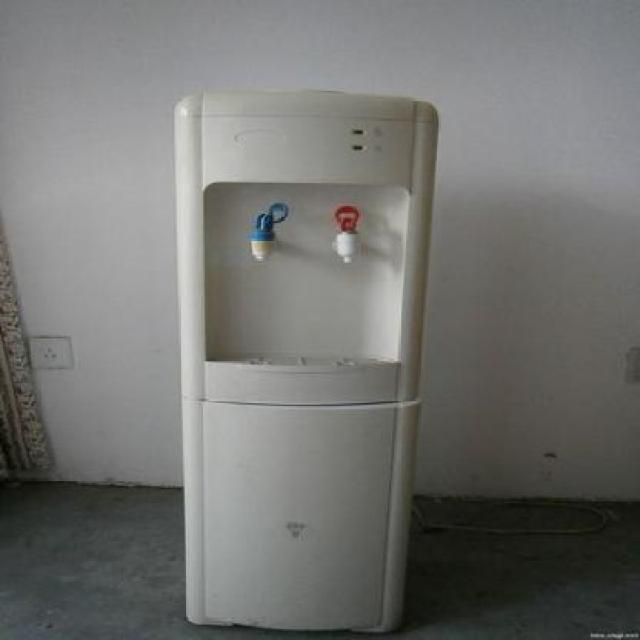cooler: (172, 86, 440, 640)
